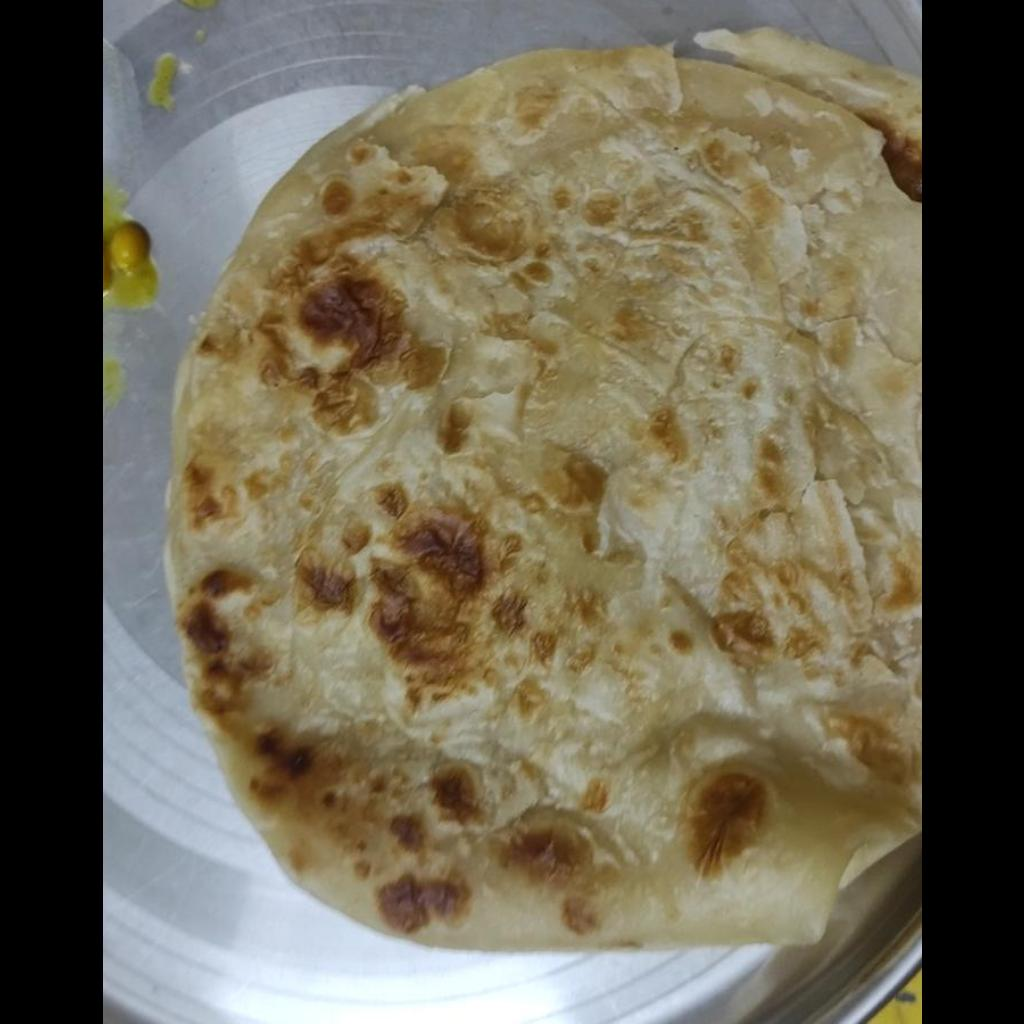ruti: (164, 23, 920, 956)
